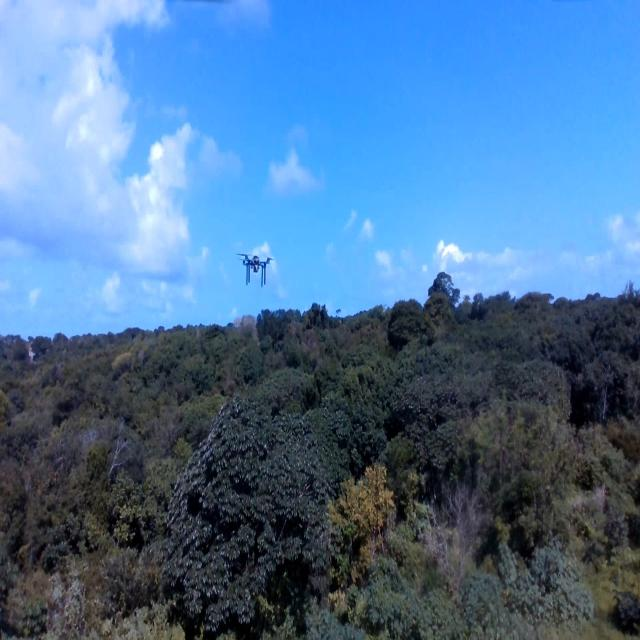-uav-: (230, 240, 277, 293)
